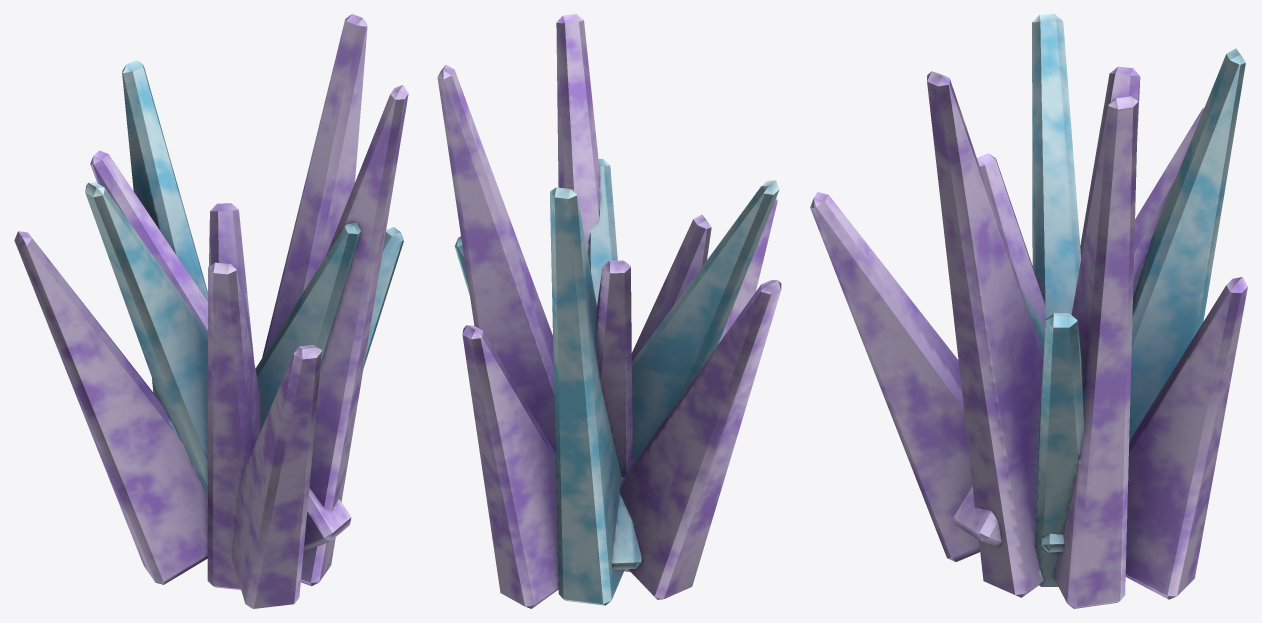
The model's file is Cosmos_Touffe.fbx.
3 renders of one model, left to right at view 1: azimuth 30°, elevation 25°; view 2: azimuth 150°, elevation 25°; view 3: azimuth 270°, elevation 25°, orthographic. The views are drawn at different scales.
Visible parts, largest first — view 1: Cosmos_Touffe; view 2: Cosmos_Touffe; view 3: Cosmos_Touffe.
Boxes of the visible parts, x1=… form: Cosmos_Touffe: x1=14, y1=14, x2=408, y2=608; Cosmos_Touffe: x1=437, y1=14, x2=781, y2=608; Cosmos_Touffe: x1=810, y1=14, x2=1247, y2=608.
Size of the model in its own units: 218 by 294 by 213.
1 material, 1 textured.
